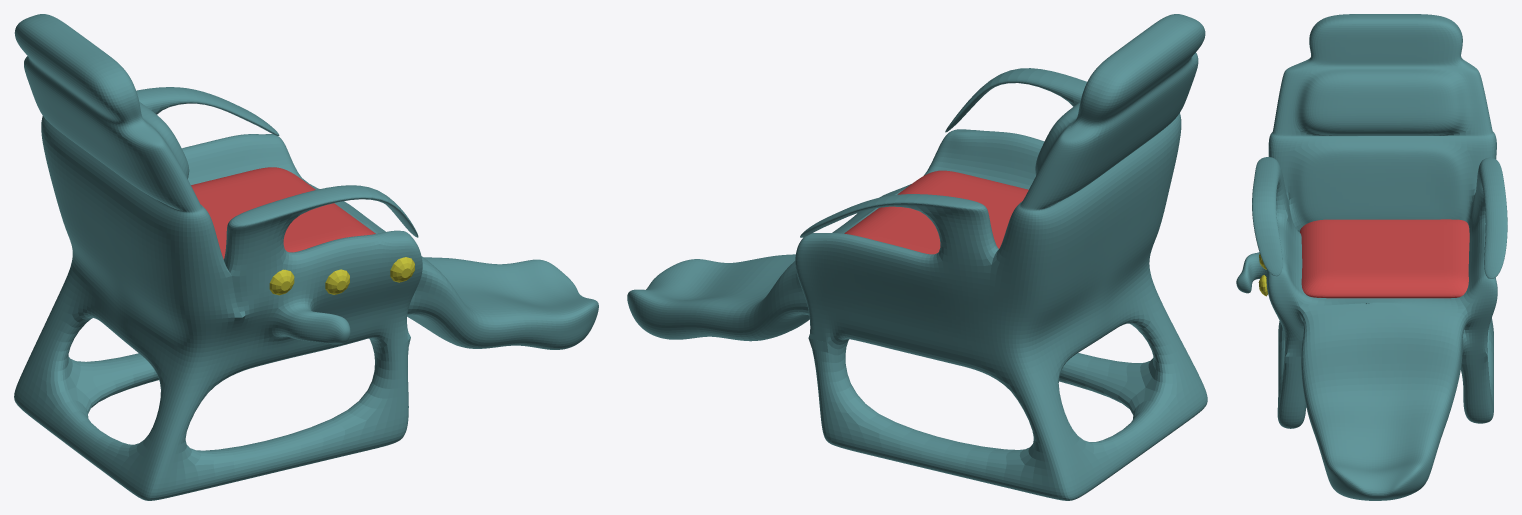
The model's file is 090918_firstclassseat.fbx.
3 renders of one model, left to right at view 1: azimuth 30°, elevation 25°; view 2: azimuth 150°, elevation 25°; view 3: azimuth 270°, elevation 25°, orthographic. The views are drawn at different scales.
Parts seen in each view (by area): view 1: firstclassseat; view 2: firstclassseat; view 3: firstclassseat.
Part boxes in pixels (bbox=[...]): firstclassseat: bbox=[14, 14, 598, 500]; firstclassseat: bbox=[627, 14, 1207, 500]; firstclassseat: bbox=[1236, 14, 1507, 500].
Size of the model in its own units: 2.52 by 1.91 by 1.47.
